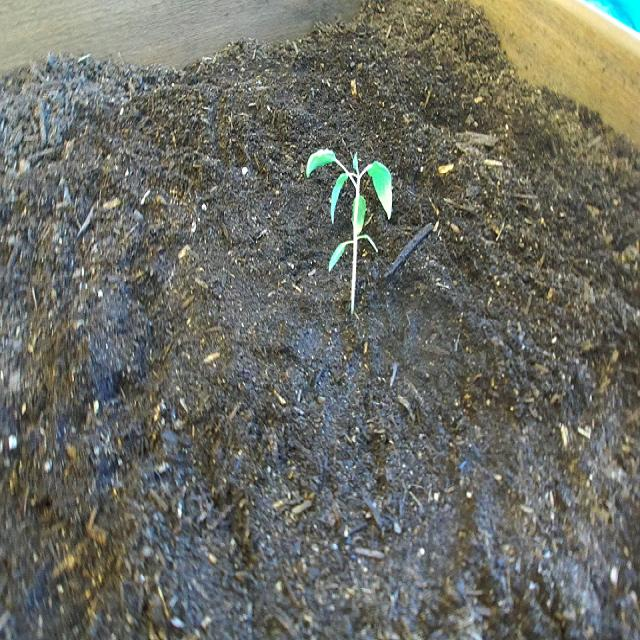Healthy: (302, 128, 399, 328)
